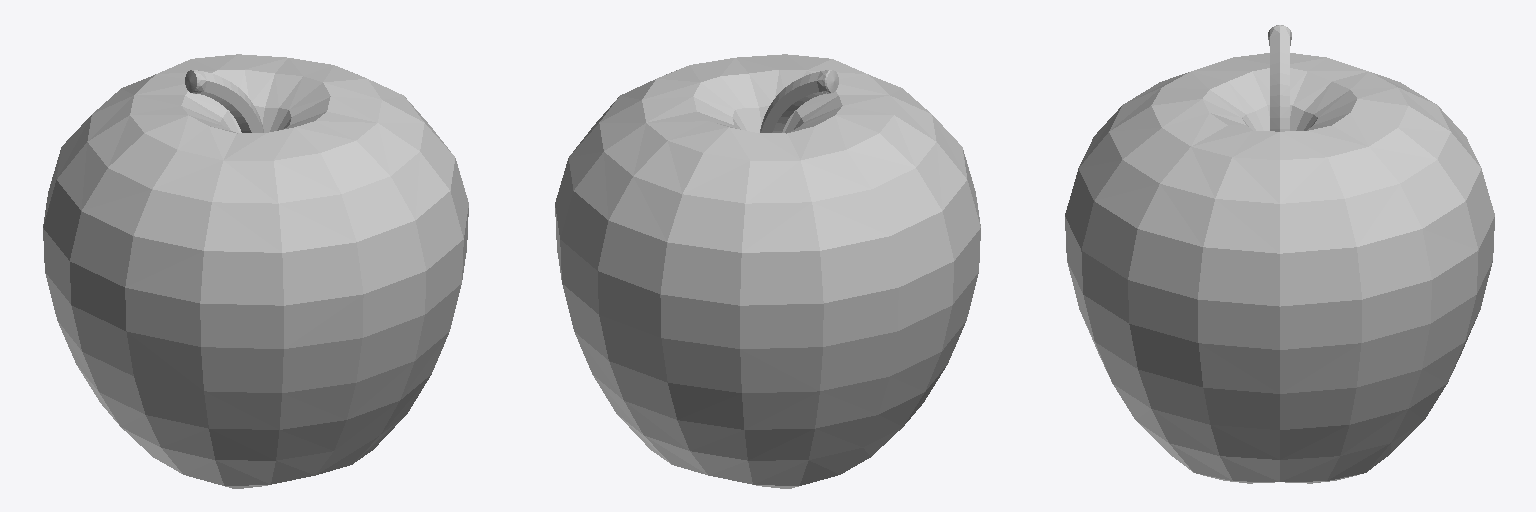
File: Apple.obj
The picture shows the model from 3 angles: view 1: azimuth 30°, elevation 25°; view 2: azimuth 150°, elevation 25°; view 3: azimuth 270°, elevation 25°; orthographic projection.
Parts seen in each view (by area): view 1: apple1:nurbsToPoly3; view 2: apple1:nurbsToPoly3; view 3: apple1:nurbsToPoly3.
Boxes of the visible parts, box(x1,y1,x2,y2) form: apple1:nurbsToPoly3: box(43, 54, 468, 488); apple1:nurbsToPoly3: box(555, 54, 980, 488); apple1:nurbsToPoly3: box(1065, 25, 1494, 483).
Bounding box in the file's own units: 6.02 × 6.19 × 6.02.